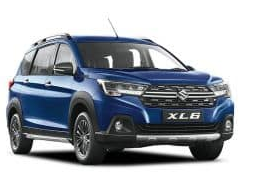car: (4, 31, 236, 165)
